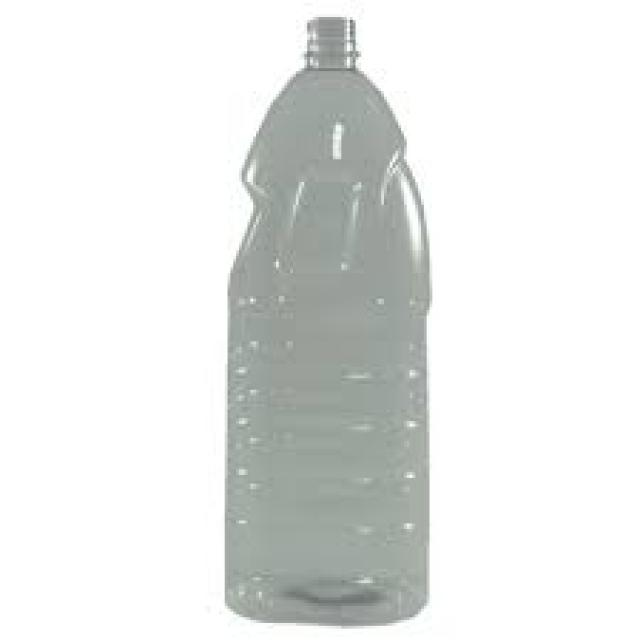bottle: (226, 16, 429, 623)
